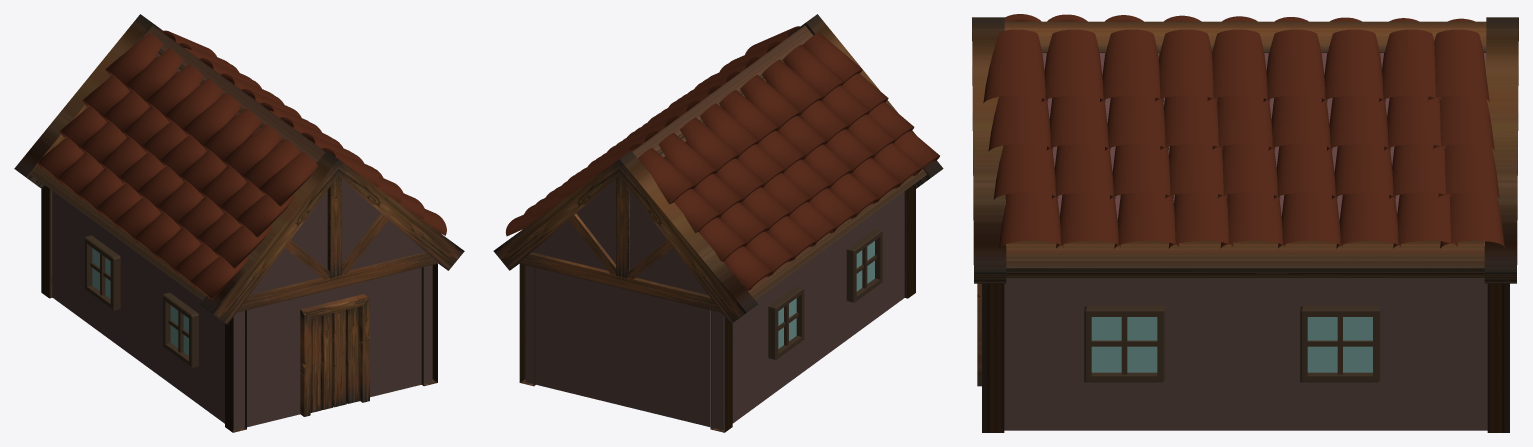
File: SM_House_003.fbx
3 views of the same model, side by side, from view 1: azimuth 30°, elevation 25°; view 2: azimuth 150°, elevation 25°; view 3: azimuth 270°, elevation 25° (orthographic). The views are drawn at different scales.
Parts seen in each view (by area): view 1: Plane.015; view 2: Plane.015; view 3: Plane.015.
Part boxes in pixels (x1,y1,x2,y2): Plane.015: (14,14,464,432); Plane.015: (493,14,943,432); Plane.015: (972,14,1518,432).
Bounding box in the file's own units: 466 × 439 × 628.
